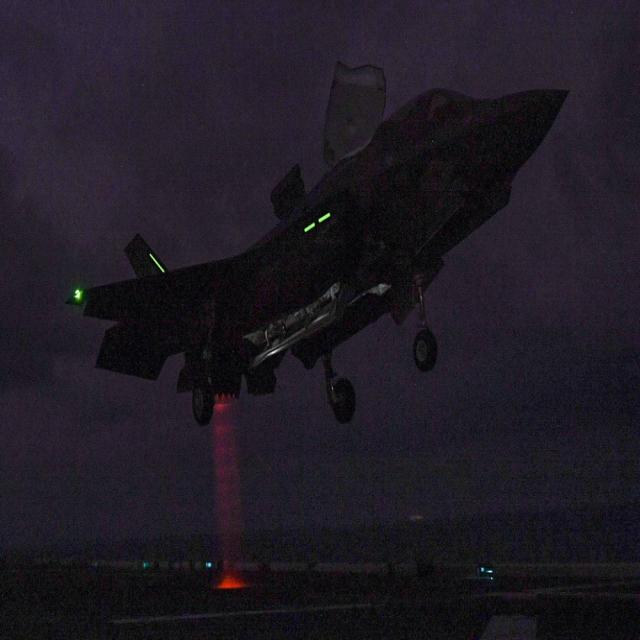MIL_Plane: (65, 59, 570, 426)
